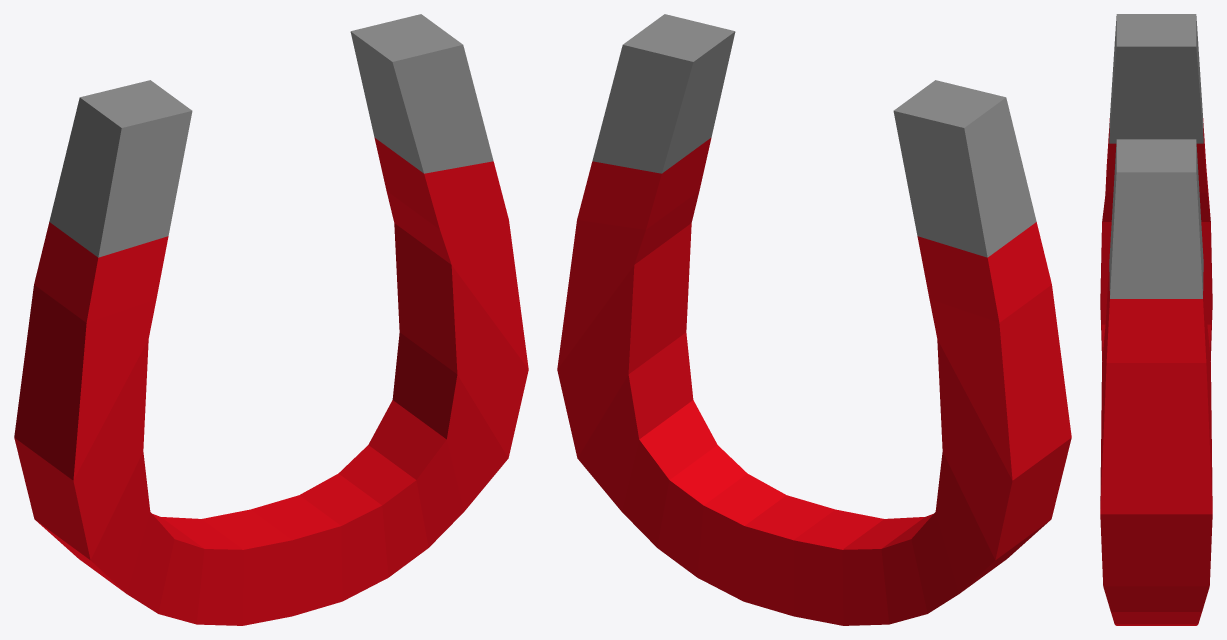
File: magnet.fbx
3 renders of one model, left to right at view 1: azimuth 30°, elevation 25°; view 2: azimuth 150°, elevation 25°; view 3: azimuth 270°, elevation 25°, orthographic. The views are drawn at different scales.
Parts seen in each view (by area): view 1: Cube; view 2: Cube; view 3: Cube.
Part boxes in pixels (left/top/right/bottom): Cube: left=14, top=14, right=528, bottom=625; Cube: left=557, top=14, right=1071, bottom=625; Cube: left=1100, top=14, right=1212, bottom=625.
Bounding box in the file's own units: 229 × 254 × 51.5.
